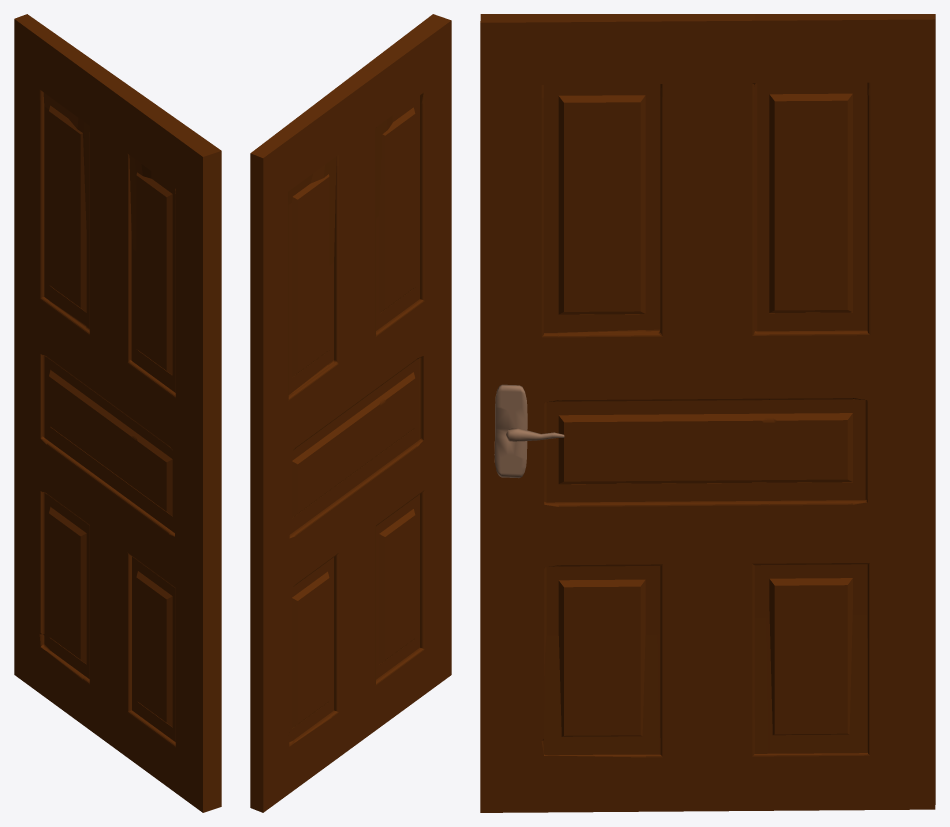
The model's file is nurtuer.fbx.
3 renders of one model, left to right at view 1: azimuth 30°, elevation 25°; view 2: azimuth 150°, elevation 25°; view 3: azimuth 270°, elevation 25°, orthographic. The views are drawn at different scales.
Parts seen in each view (by area): view 1: Nurtuer; view 2: Nurtuer; view 3: Nurtuer.
Part boxes in pixels (x1=…): Nurtuer: x1=14, y1=14, x2=221, y2=812; Nurtuer: x1=250, y1=14, x2=451, y2=812; Nurtuer: x1=480, y1=14, x2=935, y2=812.
Size of the model in its own units: 17.53 by 379 by 197.
